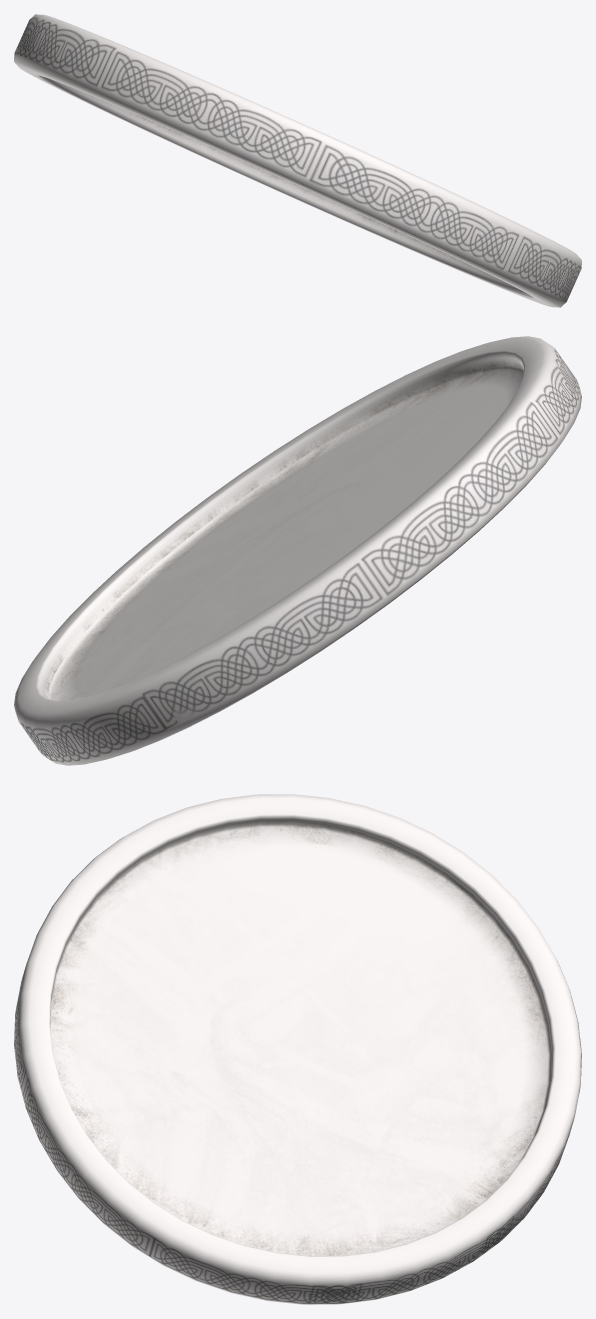
File: coin_player_lose.fbx
3 views of the same model, one above another, from view 1: azimuth 30°, elevation 25°; view 2: azimuth 150°, elevation 25°; view 3: azimuth 270°, elevation 25° (orthographic). The views are drawn at different scales.
Parts seen in each view (by area): view 1: coin-lose; view 2: coin-lose; view 3: coin-lose.
Boxes of the visible parts, x1,y1,x2,y2 form: coin-lose: [14, 14, 581, 307]; coin-lose: [14, 336, 581, 765]; coin-lose: [14, 794, 581, 1304].
Size of the model in its own units: 3.48 by 2.56 by 3.99.
